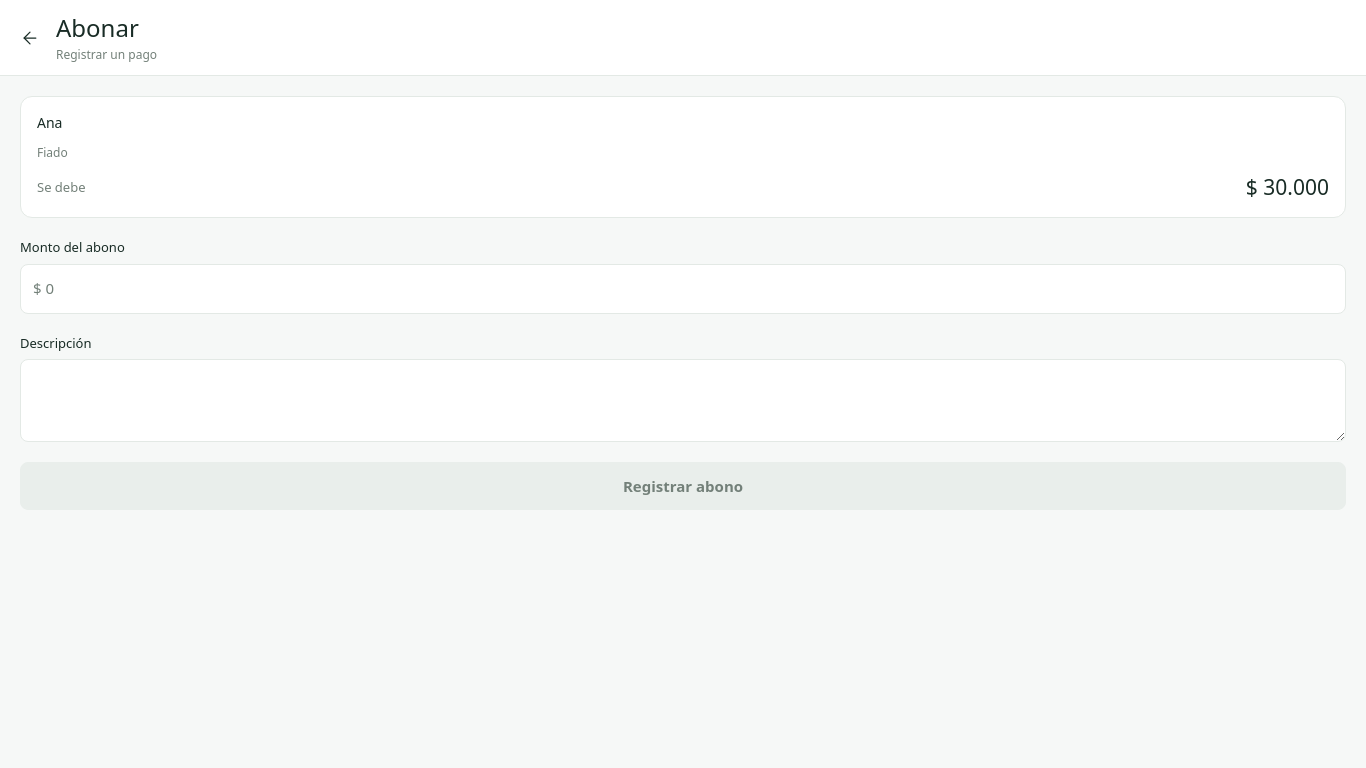
Scenario: Abonar › muestra el error del servidor
The image size is (1366, 768).
expect the text "Ana" is shown: met, box [37,113,62,132]
Type "1000" into the field labelled "Monto del abono".
click(683, 289); type("1000")  # box [33,278,1333,299]
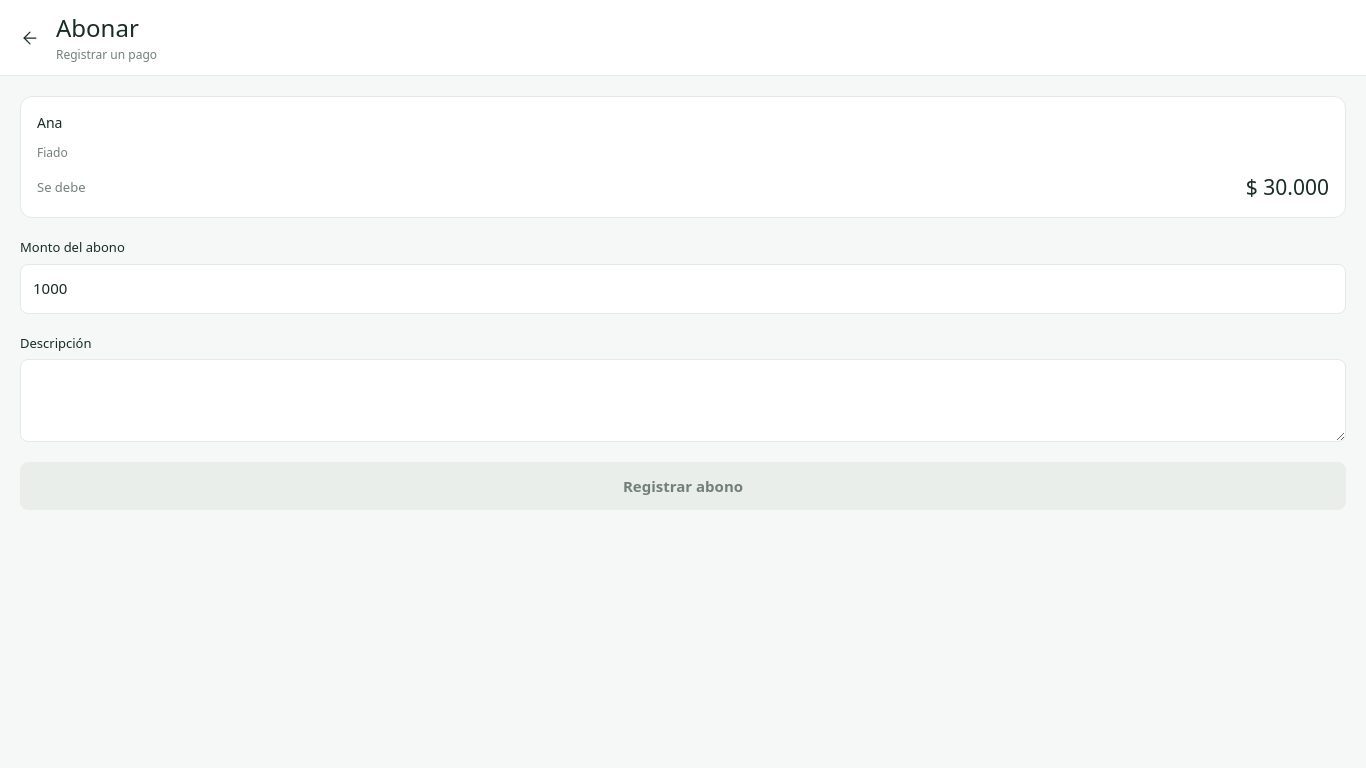
Type "Pagó" into the text box labelled "Descripción".
click(683, 400); type("Pagó")  # box [20,359,1346,442]
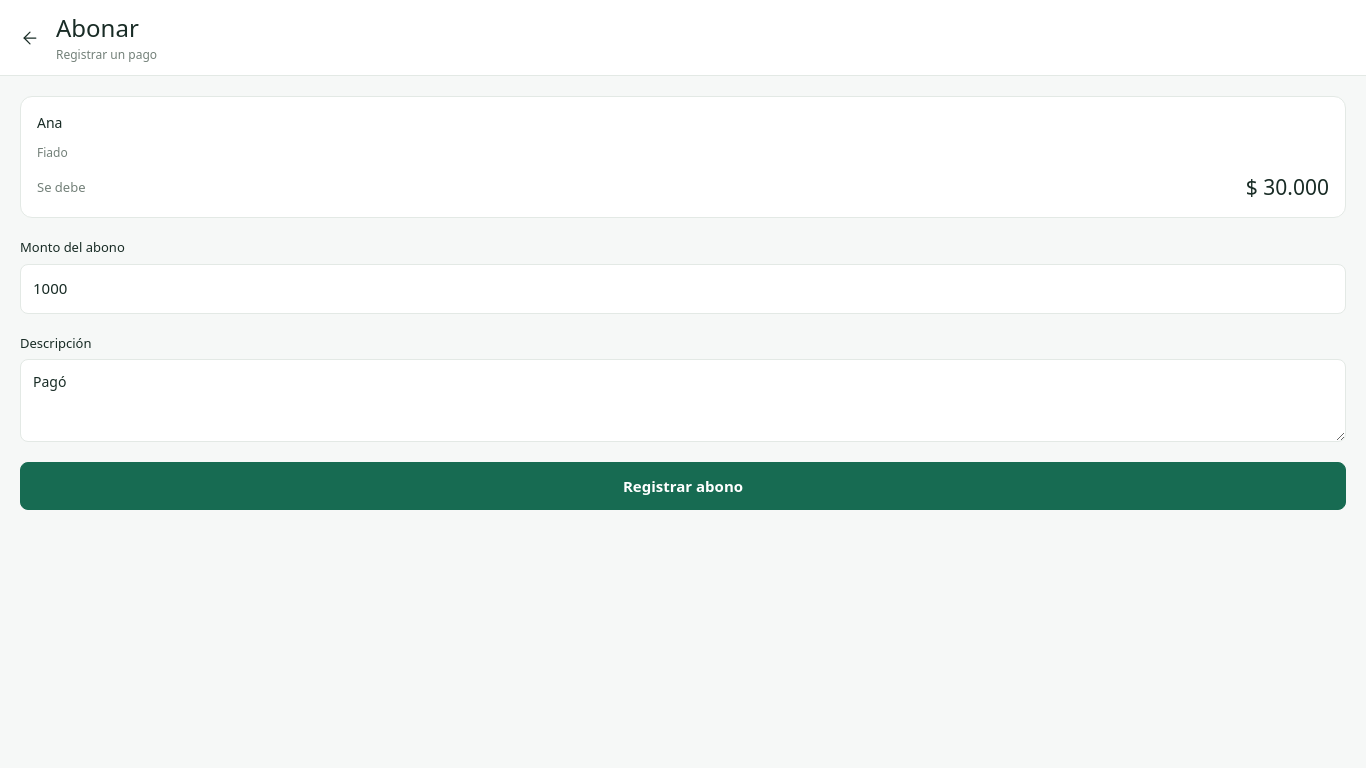
Click the button "Registrar abono".
click(683, 486)  # box [20,462,1346,510]
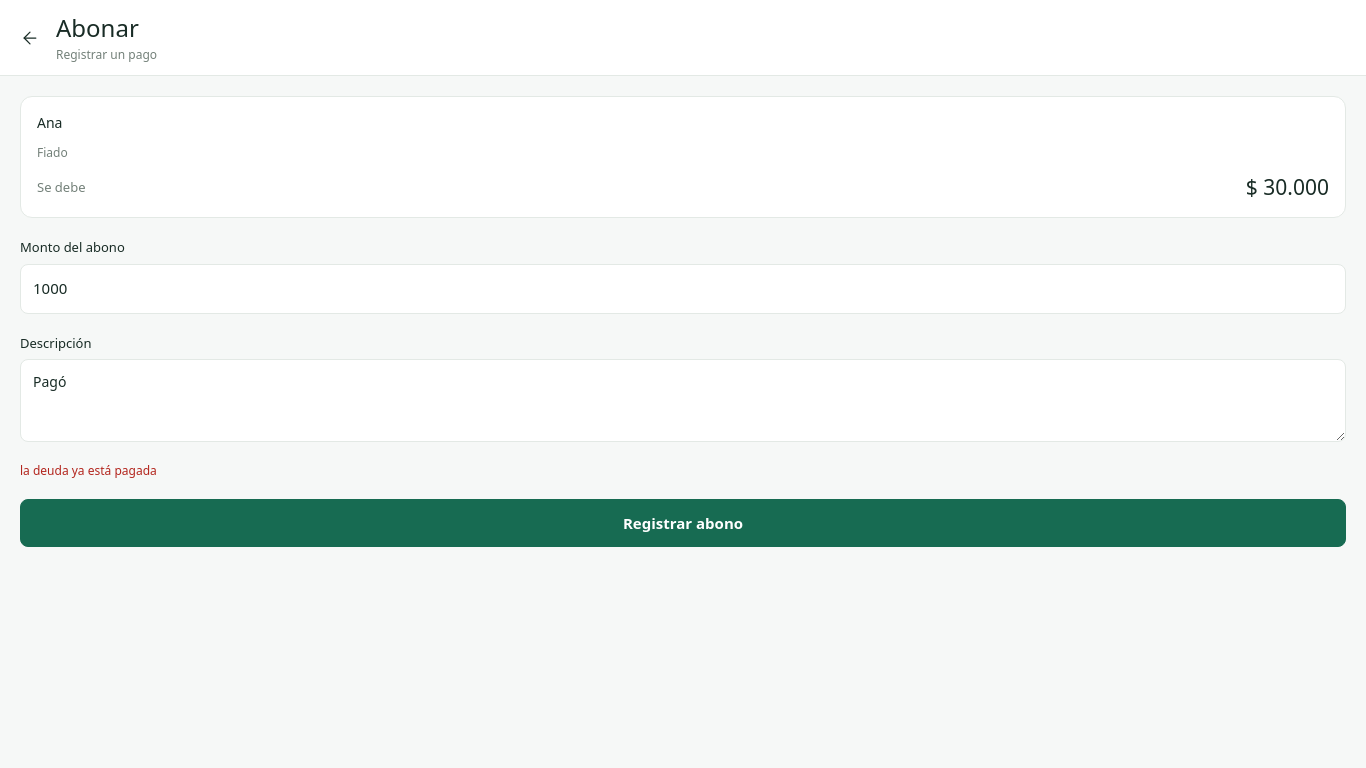
expect the message shows "ya está pagada": met, box [20,462,157,479]
